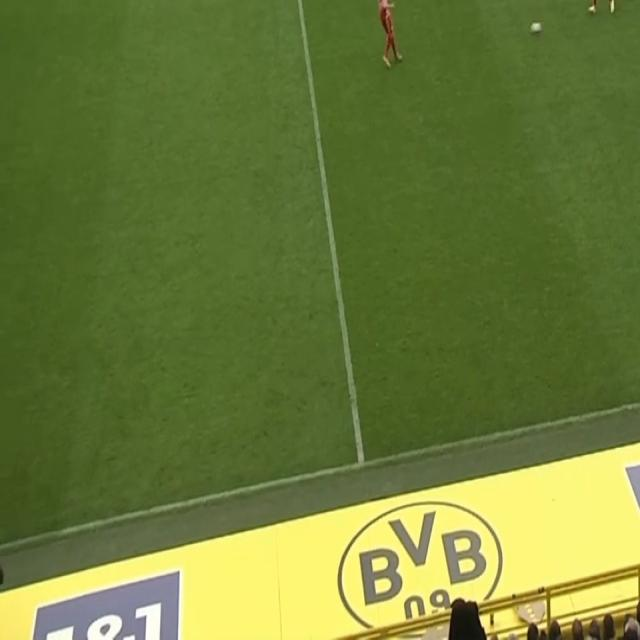ball: (529, 20, 543, 35)
